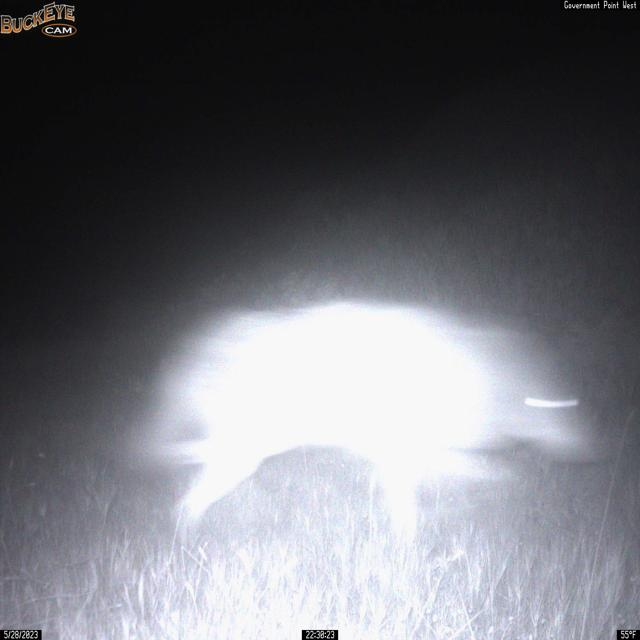coyote: (122, 298, 608, 562)
